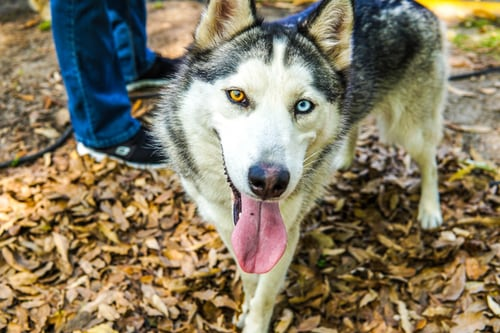husky: (177, 1, 361, 285)
